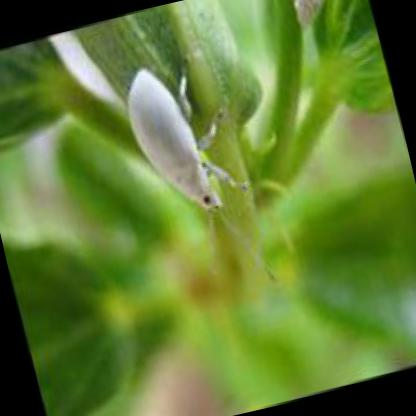ash weevil: (128, 57, 219, 214)
